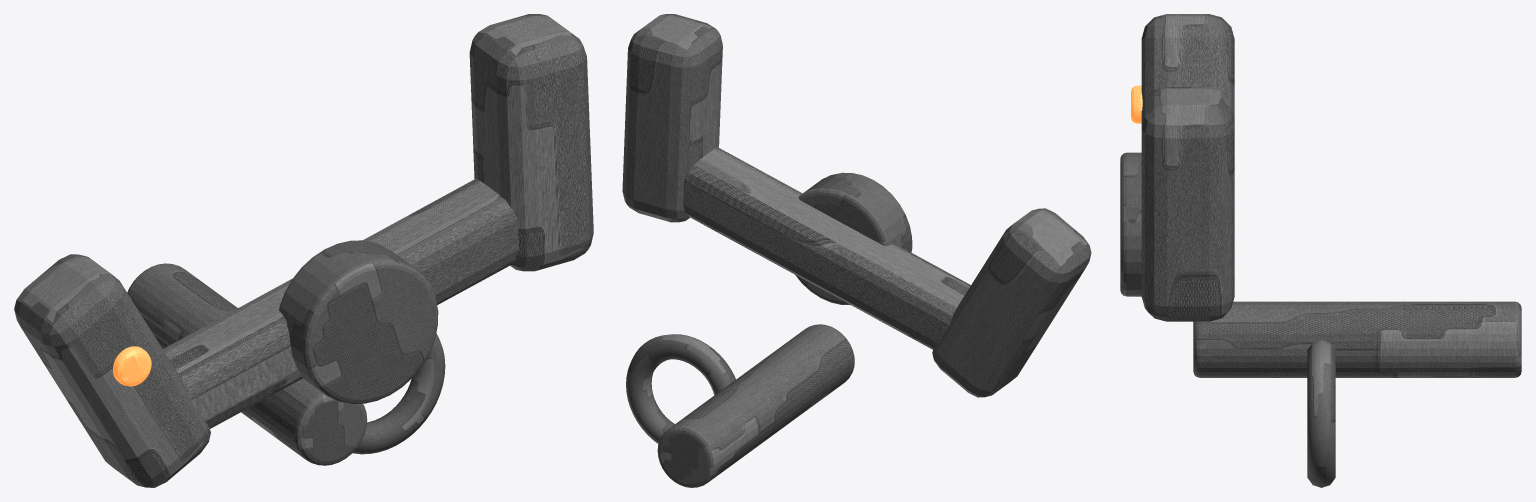
The model's file is flight_control_yoke_textured.glb.
3 renders of one model, left to right at view 1: azimuth 30°, elevation 25°; view 2: azimuth 150°, elevation 25°; view 3: azimuth 270°, elevation 25°, orthographic. The views are drawn at different scales.
Visible parts, largest first — view 1: Yoke_RightGrip, Yoke_LeftGrip, Yoke_Crossbar, Yoke_Hub, Yoke_Column, Yoke_TrimWheel, Yoke_PTT_Button; view 2: Yoke_Crossbar, Yoke_RightGrip, Yoke_LeftGrip, Yoke_Column, Yoke_Hub, Yoke_TrimWheel; view 3: Yoke_Column, Yoke_RightGrip, Yoke_LeftGrip, Yoke_TrimWheel, Yoke_Hub.
Boxes of the visible parts, bbox=[...] form: Yoke_RightGrip: bbox=[469, 14, 593, 271]; Yoke_LeftGrip: bbox=[14, 254, 210, 487]; Yoke_Crossbar: bbox=[163, 178, 518, 428]; Yoke_Hub: bbox=[279, 240, 438, 403]; Yoke_Column: bbox=[127, 263, 367, 465]; Yoke_TrimWheel: bbox=[352, 333, 445, 454]; Yoke_PTT_Button: bbox=[113, 346, 151, 386]; Yoke_Crossbar: bbox=[683, 147, 970, 349]; Yoke_RightGrip: bbox=[622, 14, 722, 222]; Yoke_LeftGrip: bbox=[932, 208, 1091, 397]; Yoke_Column: bbox=[657, 324, 854, 487]; Yoke_Hub: bbox=[795, 172, 912, 305]; Yoke_TrimWheel: bbox=[626, 334, 735, 443]; Yoke_Column: bbox=[1193, 301, 1521, 377]; Yoke_RightGrip: bbox=[1141, 87, 1234, 321]; Yoke_LeftGrip: bbox=[1141, 14, 1234, 111]; Yoke_TrimWheel: bbox=[1307, 340, 1335, 487]; Yoke_Hub: bbox=[1120, 152, 1141, 296].
Size of the model in its own units: 2.77 by 2.2 by 1.9.
4 materials, 4 textured.
